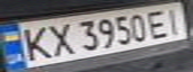0: (127, 11, 151, 43)
3: (75, 17, 100, 52)
5: (112, 12, 136, 46)
9: (93, 16, 118, 50)
E: (142, 7, 175, 39)
I: (160, 5, 190, 35)
K: (15, 24, 54, 62)
X: (42, 20, 78, 57)
